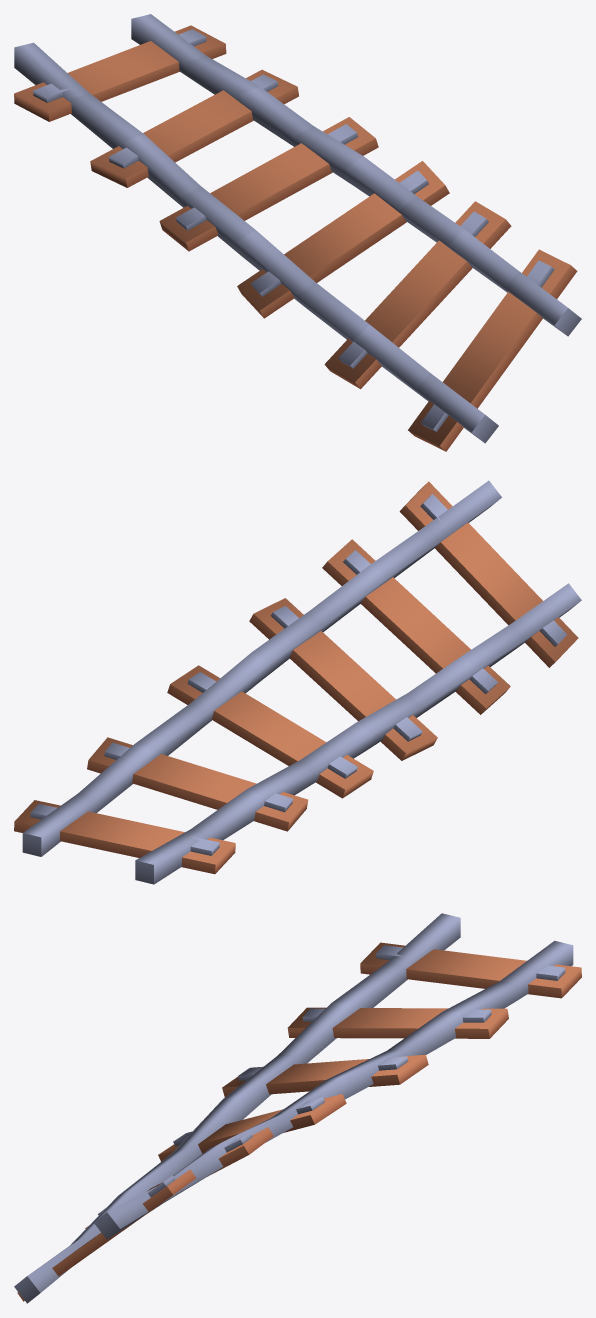
The model's file is railroad-damaged-straight-skew-right.glb.
3 renders of one model, top to bottom at view 1: azimuth 30°, elevation 25°; view 2: azimuth 150°, elevation 25°; view 3: azimuth 330°, elevation 25°, orthographic. The views are drawn at different scales.
Parts seen in each view (by area): view 1: railroad-damaged-straight-skew-right; view 2: railroad-damaged-straight-skew-right; view 3: railroad-damaged-straight-skew-right.
Part boxes in pixels (left/top/right/bottom): railroad-damaged-straight-skew-right: left=14, top=14, right=581, bottom=451; railroad-damaged-straight-skew-right: left=14, top=480, right=581, bottom=884; railroad-damaged-straight-skew-right: left=14, top=913, right=581, bottom=1303.
Size of the model in its own units: 1.03 by 0.7248 by 4.
